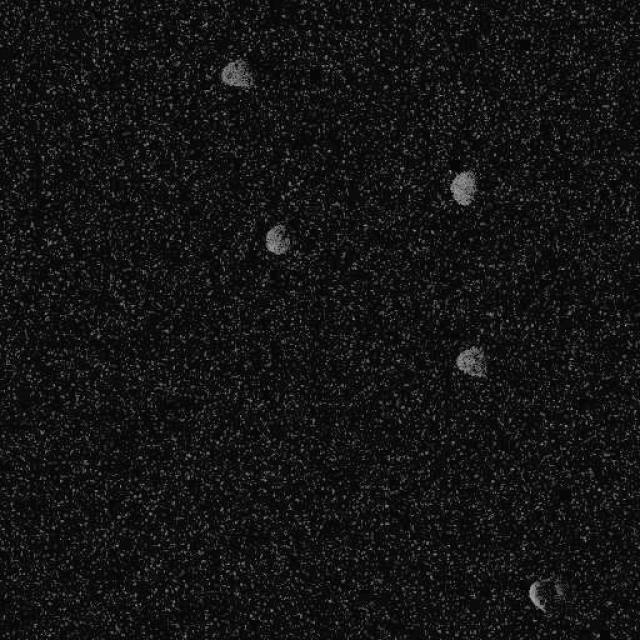D2: (526, 575, 566, 614), (453, 344, 488, 378), (218, 58, 254, 88), (449, 169, 476, 206), (264, 223, 291, 255)
